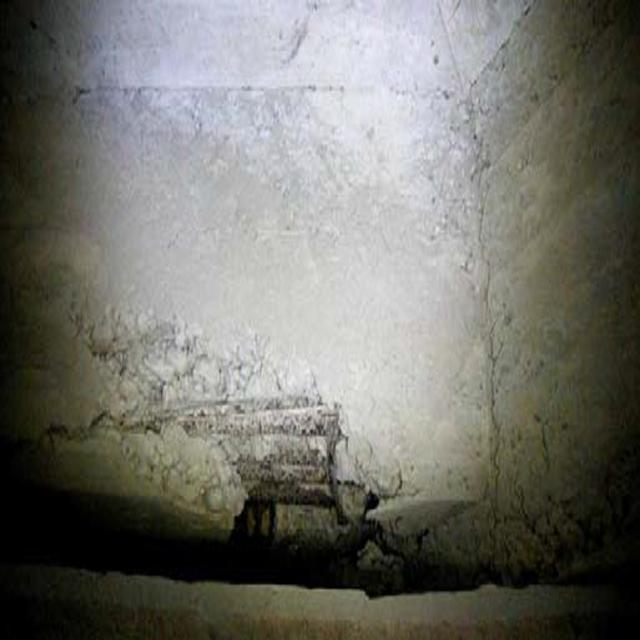spalling: (47, 294, 436, 562)
